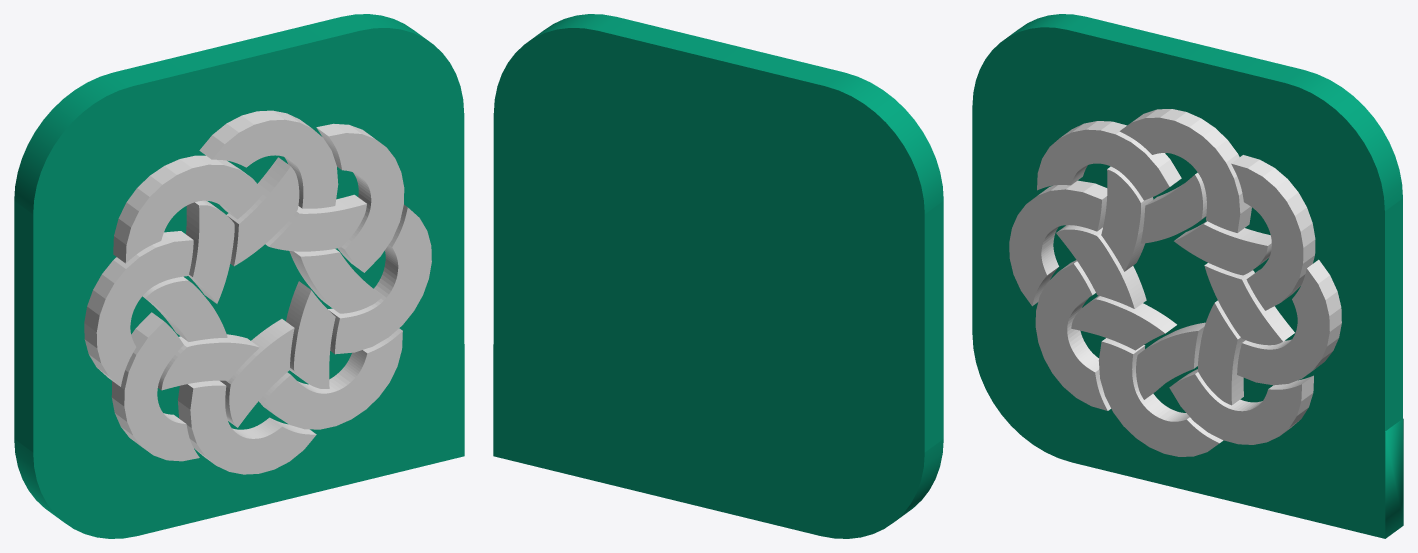
Rendered from chatgpt.gltf.
3 renders of one model, left to right at view 1: azimuth 30°, elevation 25°; view 2: azimuth 150°, elevation 25°; view 3: azimuth 330°, elevation 25°, orthographic. The views are drawn at different scales.
Parts seen in each view (by area): view 1: bubble, logo; view 2: bubble; view 3: bubble, logo.
Boxes of the visible parts, x1,y1,x2,y2 form: bubble: (14,14,464,538); logo: (84,110,431,474); bubble: (493,14,943,538); bubble: (972,14,1403,538); logo: (1009,109,1341,456).
Bounding box in the file's own units: 0.512 × 0.5113 × 0.0648.
